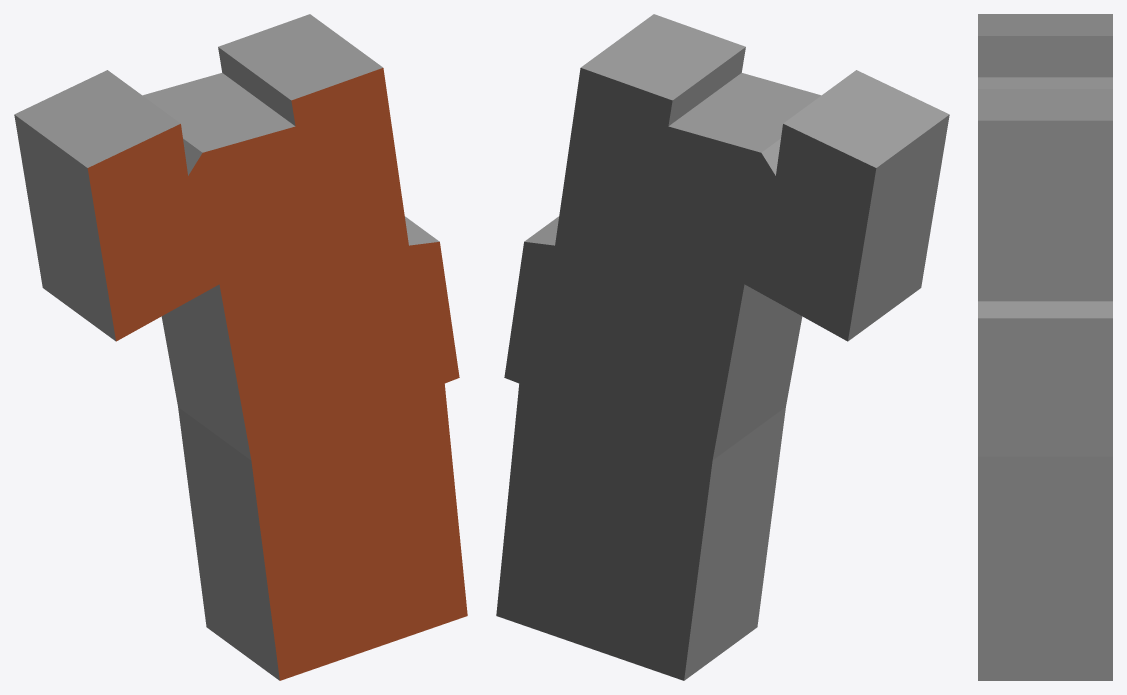
The model's file is construction_5733_assumed_A_Casa_h6m.obj.
3 renders of one model, left to right at view 1: azimuth 30°, elevation 25°; view 2: azimuth 150°, elevation 25°; view 3: azimuth 270°, elevation 25°, orthographic. The views are drawn at different scales.
Parts seen in each view (by area): view 1: construction_5733_assumed_A_Casa; view 2: construction_5733_assumed_A_Casa; view 3: construction_5733_assumed_A_Casa.
Boxes of the visible parts, x1,y1,x2,y2 form: construction_5733_assumed_A_Casa: (14,14,467,680); construction_5733_assumed_A_Casa: (496,14,949,680); construction_5733_assumed_A_Casa: (978,14,1112,680).
Bounding box in the file's own units: 17.95 × 26.53 × 6.
